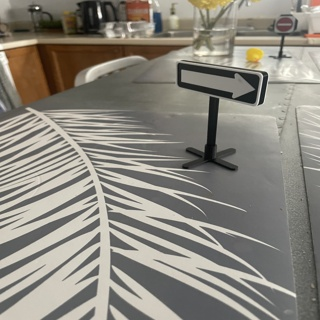sign_noentry: (270, 12, 296, 33)
sign_oneway_right: (175, 59, 265, 110)
